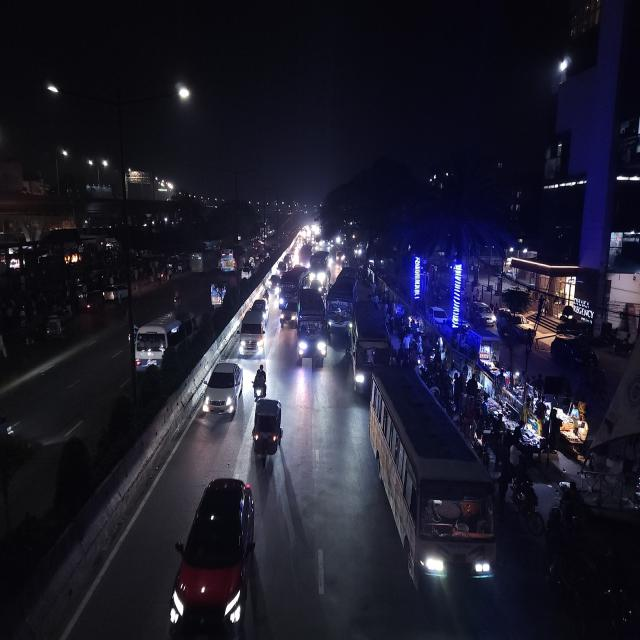bus: (365, 362, 497, 609), (130, 312, 204, 368), (347, 299, 389, 396), (296, 287, 326, 368), (326, 268, 356, 342), (277, 265, 303, 330), (310, 250, 330, 289), (192, 247, 216, 274), (219, 246, 237, 273), (299, 242, 312, 267)
car: (171, 472, 260, 636), (200, 356, 245, 425), (237, 298, 270, 359), (428, 304, 451, 332), (102, 285, 117, 304), (240, 263, 252, 280)
cng: (250, 395, 286, 469)
motorcycle: (252, 360, 268, 402), (170, 288, 182, 313), (262, 281, 270, 299)
truck: (207, 280, 229, 312)
